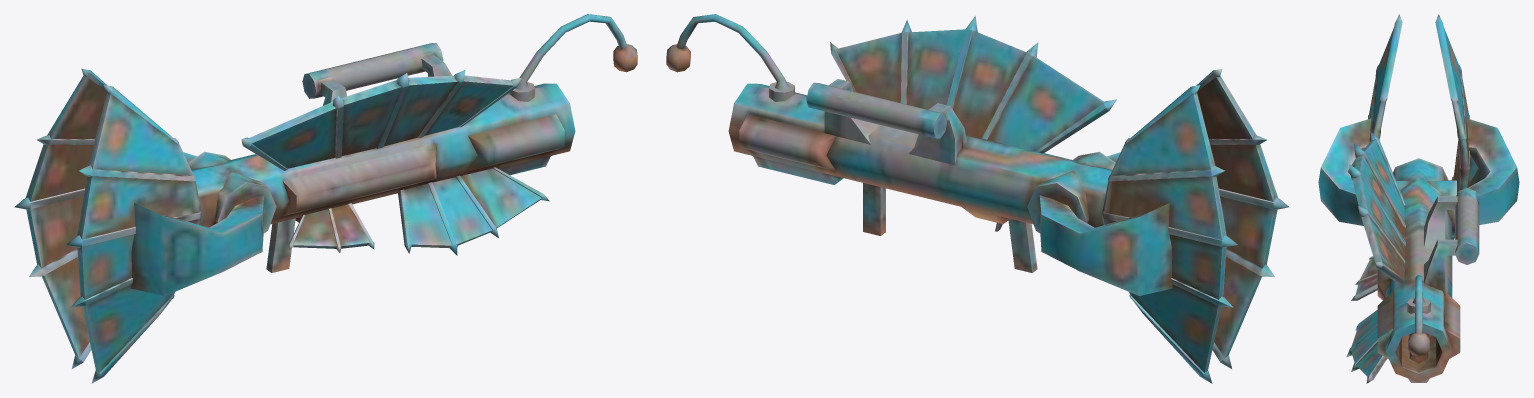
File: heavy_angler.glb
The picture shows the model from 3 angles, left to right: view 1: azimuth 30°, elevation 25°; view 2: azimuth 150°, elevation 25°; view 3: azimuth 270°, elevation 25°; orthographic projection. The views are drawn at different scales.
Size of the model in its own units: 368 by 175 by 121.
1 material, 1 textured.
